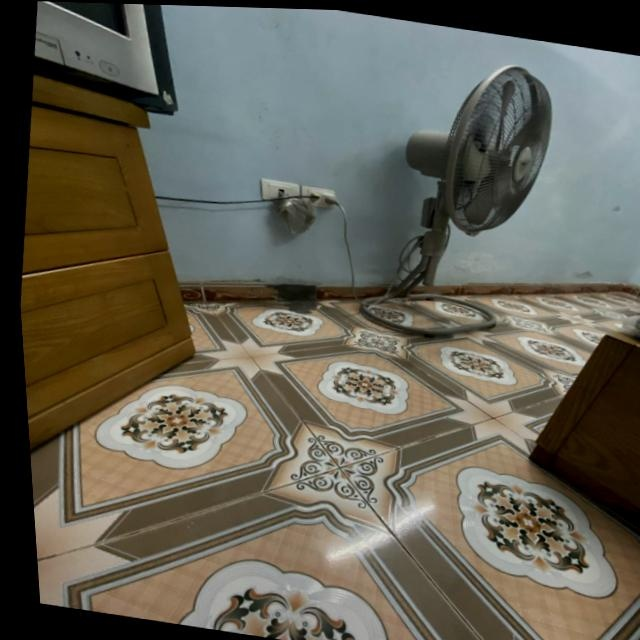outlet: (257, 177, 301, 206), (299, 184, 337, 209)
